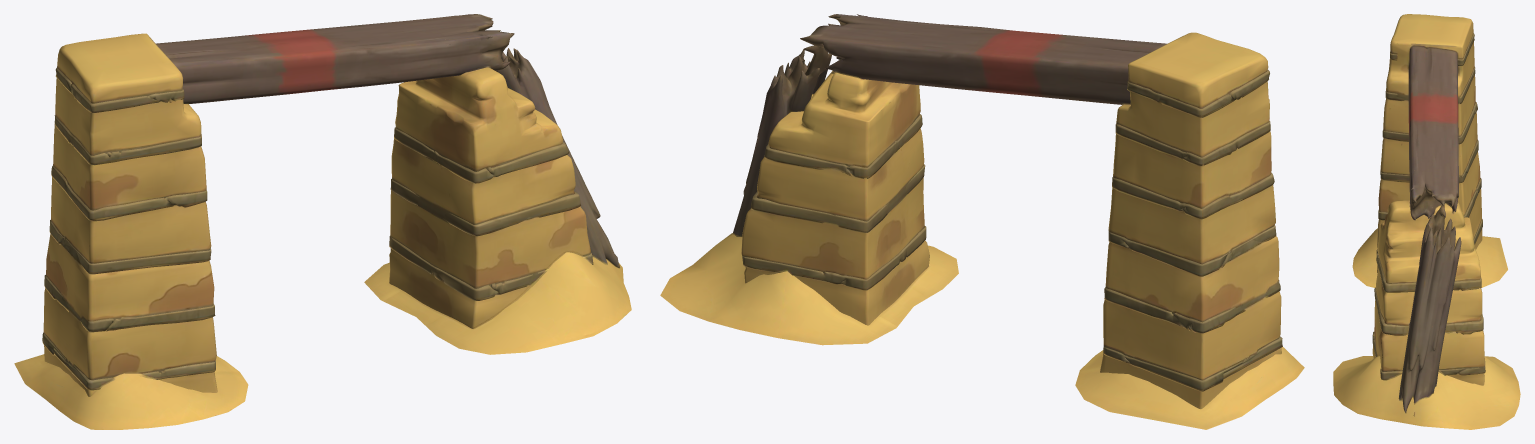
Rendered from SM_Tripo_DesertPosthouseGate.glb.
3 views of the same model, side by side, from view 1: azimuth 30°, elevation 25°; view 2: azimuth 150°, elevation 25°; view 3: azimuth 270°, elevation 25° (orthographic). The views are drawn at different scales.
Visible parts, largest first — view 1: SM_Tripo_DesertPosthouseGate_LOD0; view 2: SM_Tripo_DesertPosthouseGate_LOD0; view 3: SM_Tripo_DesertPosthouseGate_LOD0.
Part boxes in pixels (x1,y1,x2,y2): SM_Tripo_DesertPosthouseGate_LOD0: [14, 14, 631, 429]; SM_Tripo_DesertPosthouseGate_LOD0: [660, 14, 1304, 429]; SM_Tripo_DesertPosthouseGate_LOD0: [1333, 14, 1520, 429].
Size of the model in its own units: 8.96 by 4.87 by 3.58.
Materials: 1 (1 with a texture image).
